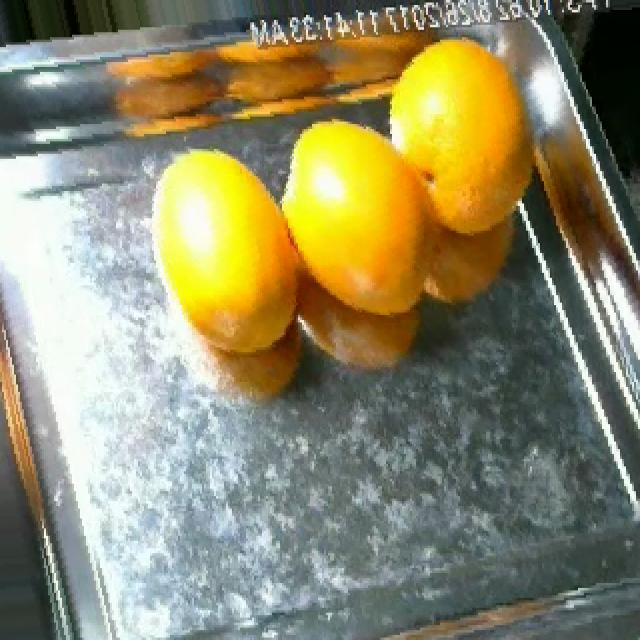Good_Orange: (388, 37, 534, 243), (154, 151, 300, 355), (280, 122, 434, 310)
